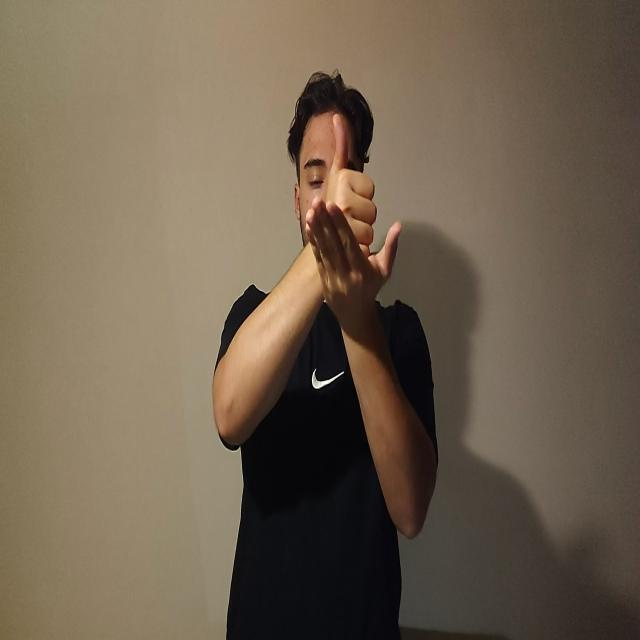help: (302, 111, 408, 308)
